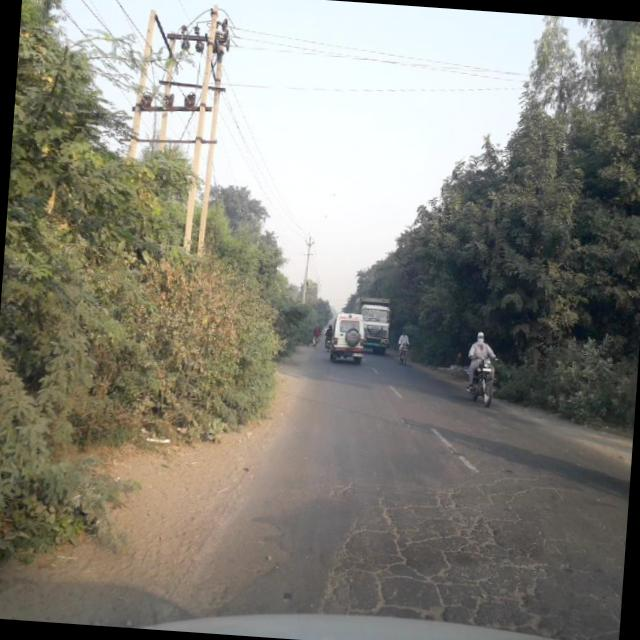crack: (314, 432, 610, 639)
